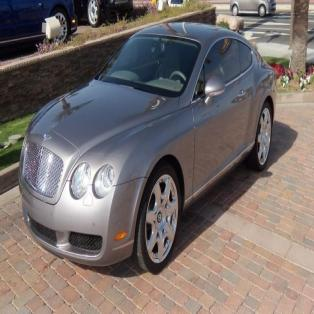Auto: (17, 23, 277, 272)
